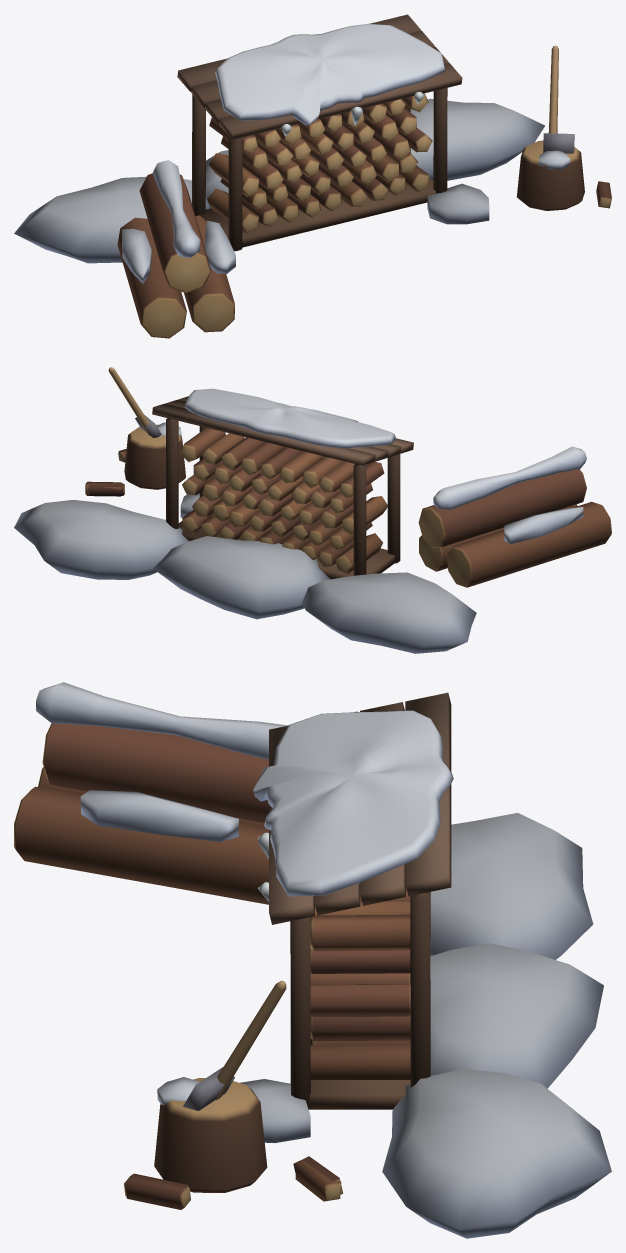
Rendered from rg-onsen-campRest.glb.
The picture shows the model from 3 angles, top to bottom: view 1: azimuth 30°, elevation 25°; view 2: azimuth 150°, elevation 25°; view 3: azimuth 270°, elevation 25°; orthographic projection. The views are drawn at different scales.
Visible parts, largest first — view 1: body; view 2: body; view 3: body.
Part boxes in pixels (x1,y1,x2,y2): body: [14, 14, 611, 338]; body: [14, 367, 611, 653]; body: [14, 682, 611, 1238].
Size of the model in its own units: 2.97 by 0.9992 by 1.8.
